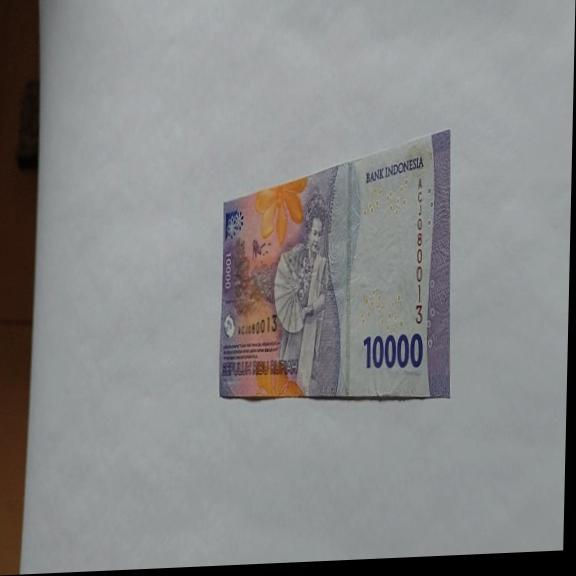Kertas: (217, 128, 455, 409), (362, 330, 424, 372)
